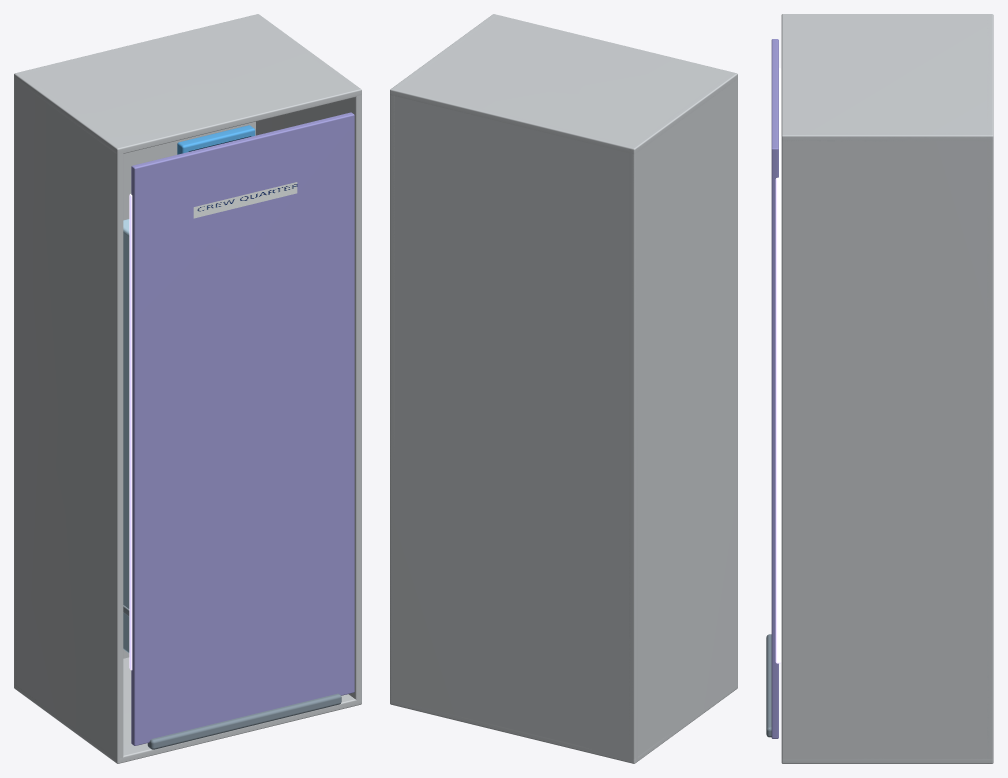
File: sleep_pod.glb
The picture shows the model from 3 angles, left to right: view 1: azimuth 30°, elevation 25°; view 2: azimuth 150°, elevation 25°; view 3: azimuth 270°, elevation 25°; orthographic projection. The views are drawn at different scales.
Parts seen in each view (by area): view 1: Pod_Privacy_Panel, Sleep_Pod_Left, Sleep_Pod_Top, Sleep_Pod_Right, Sleep_Pod_Bottom, Sleeping_Bag, Pod_Skirting, Sleep_Pod_Light, Sleep_Pod_Rear, Pod_Tag, Sleep_Clock_Housing; view 2: Sleep_Pod_Rear, Sleep_Pod_Left, Sleep_Pod_Top, Sleep_Pod_Right, Sleep_Pod_Bottom; view 3: Sleep_Pod_Right, Sleep_Pod_Top, Pod_Privacy_Panel, Sleep_Pod_Light_2, Sleep_Pod_Rear, Sleep_Pod_Bottom, Pod_Skirting.
Boxes of the visible parts, x1=… form: Pod_Privacy_Panel: x1=131, y1=112, x2=354, y2=745; Sleep_Pod_Left: x1=14, y1=73, x2=123, y2=763; Sleep_Pod_Top: x1=14, y1=14, x2=361, y2=154; Sleep_Pod_Right: x1=254, y1=14, x2=361, y2=704; Sleep_Pod_Bottom: x1=14, y1=657, x2=361, y2=763; Sleeping_Bag: x1=123, y1=219, x2=129, y2=652; Pod_Skirting: x1=147, y1=693, x2=341, y2=749; Sleep_Pod_Light: x1=129, y1=194, x2=132, y2=670; Sleep_Pod_Rear: x1=14, y1=14, x2=260, y2=688; Pod_Tag: x1=193, y1=182, x2=297, y2=218; Sleep_Clock_Housing: x1=177, y1=125, x2=255, y2=154; Sleep_Pod_Rear: x1=390, y1=87, x2=637, y2=762; Sleep_Pod_Left: x1=629, y1=72, x2=737, y2=763; Sleep_Pod_Top: x1=390, y1=14, x2=737, y2=154; Sleep_Pod_Right: x1=390, y1=15, x2=496, y2=704; Sleep_Pod_Bottom: x1=390, y1=684, x2=737, y2=763; Sleep_Pod_Right: x1=781, y1=133, x2=993, y2=762; Sleep_Pod_Top: x1=781, y1=14, x2=993, y2=141; Pod_Privacy_Panel: x1=771, y1=39, x2=778, y2=738; Sleep_Pod_Light_2: x1=775, y1=176, x2=781, y2=663; Sleep_Pod_Rear: x1=987, y1=14, x2=991, y2=763; Sleep_Pod_Bottom: x1=781, y1=758, x2=993, y2=763; Pod_Skirting: x1=766, y1=634, x2=771, y2=737.
Bounding box in the file's own units: 0.9 × 2.16 × 0.7075.
11 materials, 2 textured.
